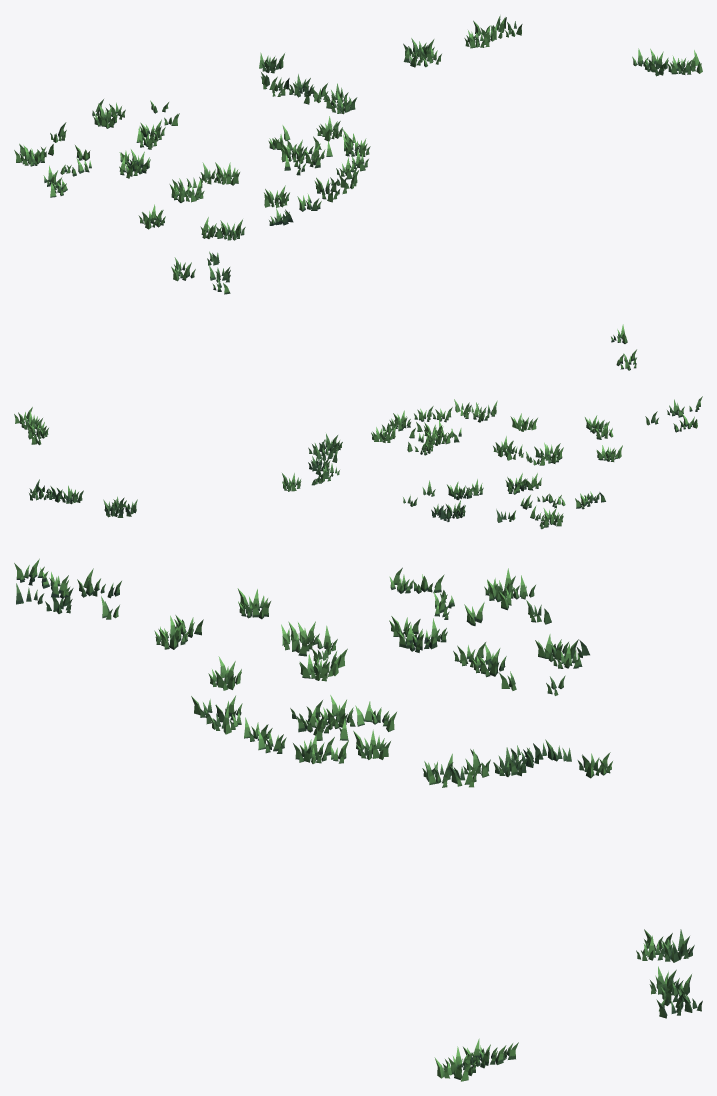
Rendered from Plant_02.FBX.
3 views of the same model, one above another, from view 1: azimuth 30°, elevation 25°; view 2: azimuth 150°, elevation 25°; view 3: azimuth 270°, elevation 25° (orthographic). The views are drawn at different scales.
Parts seen in each view (by area): view 1: Plant_02; view 2: Plant_02; view 3: Plant_02.
Part boxes in pixels (<box>): Plant_02: <box>14,15,702,294</box>; Plant_02: <box>14,324,702,529</box>; Plant_02: <box>14,558,702,1081</box>.
Bounding box in the file's own units: 35.35 × 6.48 × 23.77.
